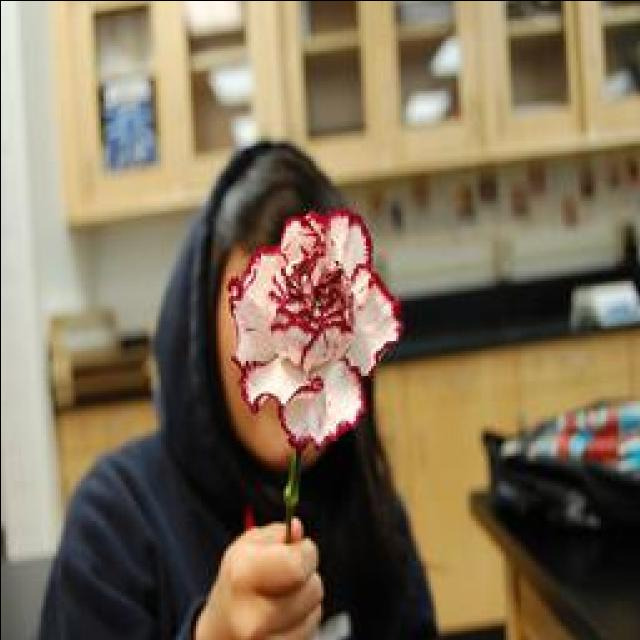carnation: (199, 194, 417, 454)
